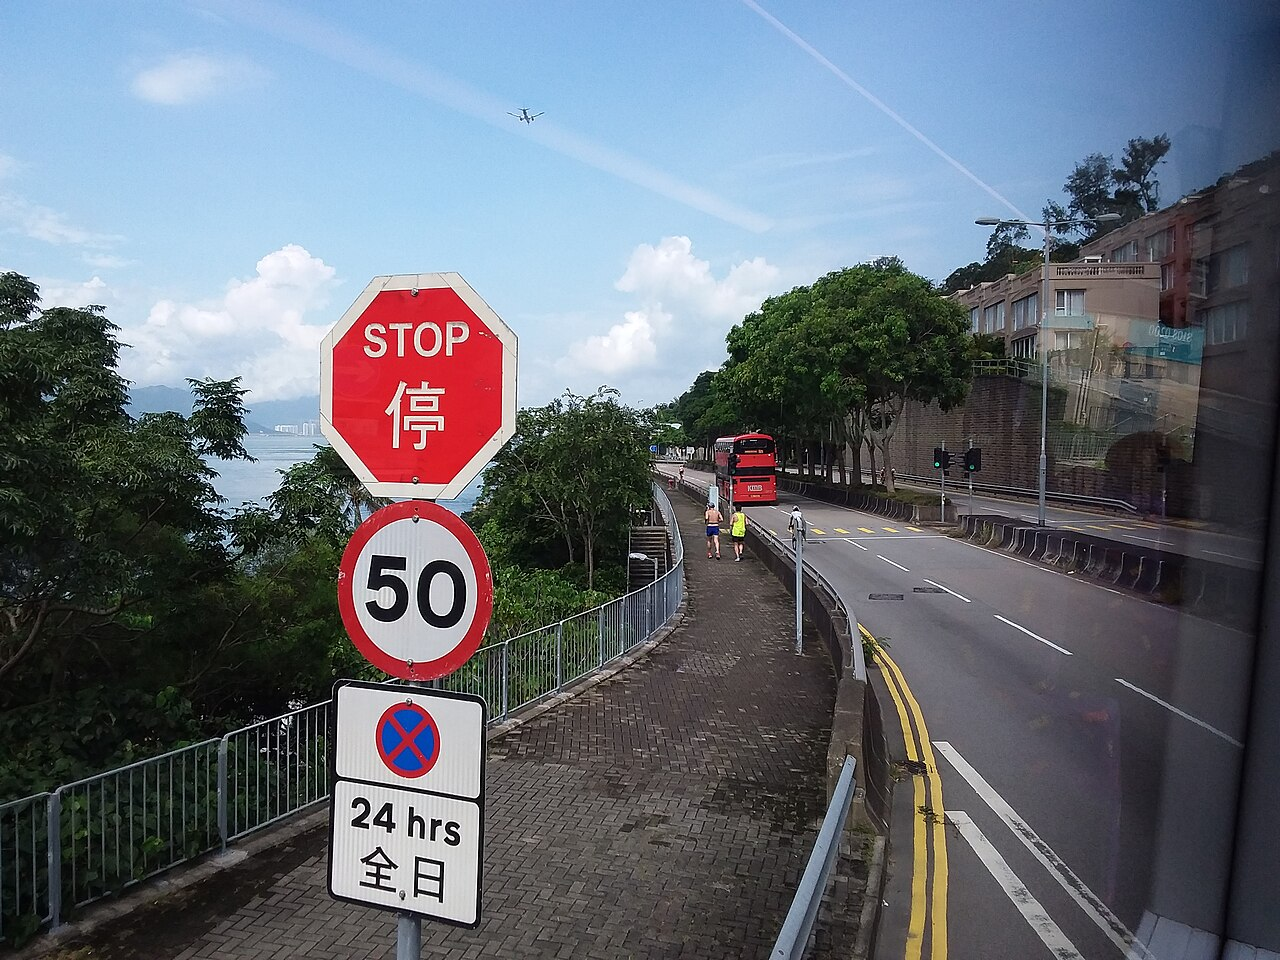Speed Limit: (325, 502, 495, 675)
Start Of No Stopping: (315, 692, 489, 922)
Stop: (314, 268, 522, 505)
